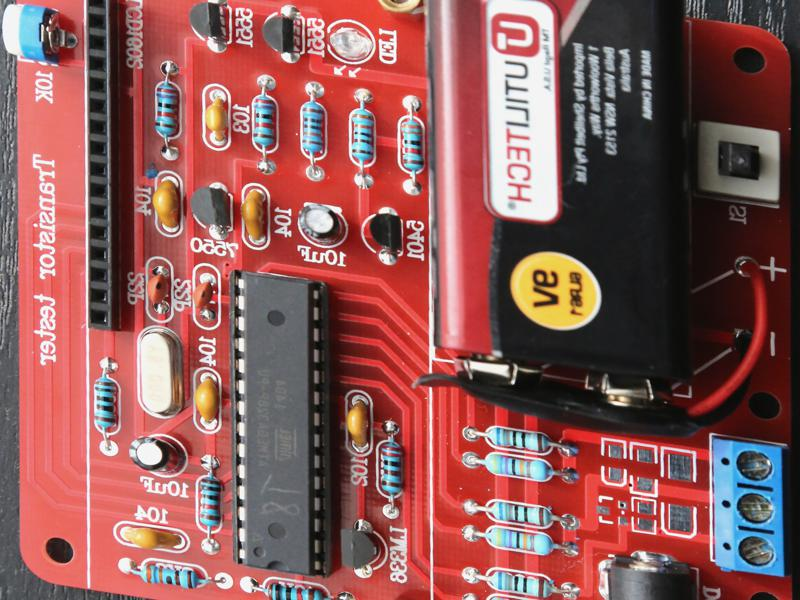Capacitor: (127, 434, 188, 478), (296, 202, 346, 246)
LED: (329, 24, 376, 66)
Resistor: (475, 522, 562, 558), (479, 447, 558, 483), (482, 566, 564, 599), (480, 424, 557, 455), (482, 497, 559, 528), (135, 558, 206, 591), (150, 74, 184, 142), (298, 98, 328, 164), (91, 373, 122, 436), (346, 106, 377, 168), (250, 92, 280, 156), (396, 115, 426, 179), (195, 470, 224, 535), (377, 435, 405, 501), (260, 575, 329, 600)
